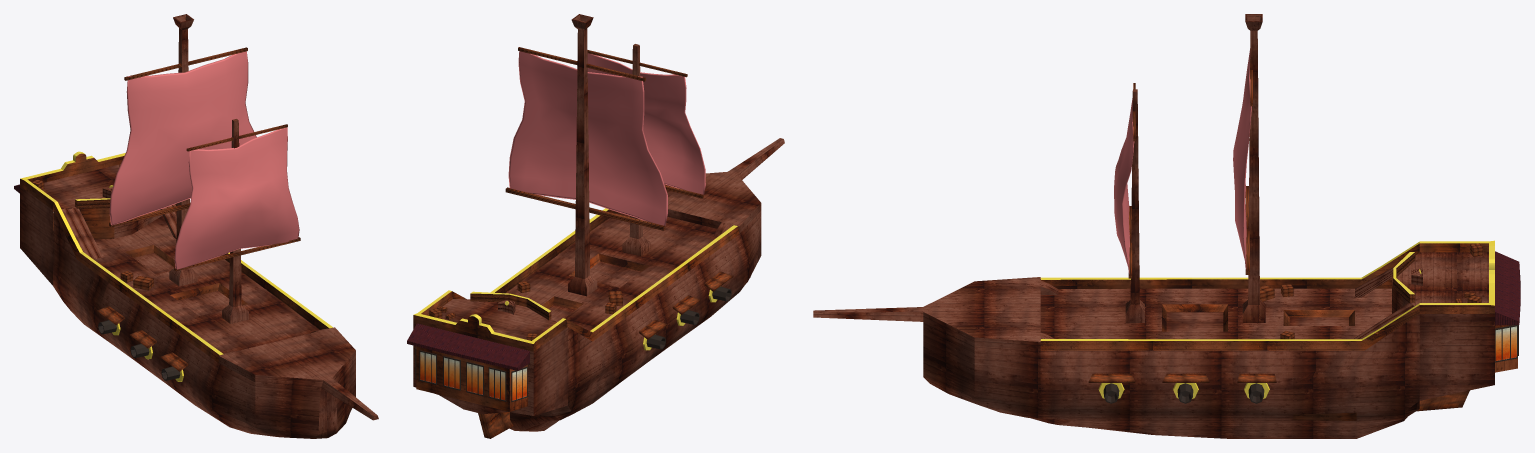
The model's file is EShip100HP.fbx.
The picture shows the model from 3 angles, left to right: view 1: azimuth 30°, elevation 25°; view 2: azimuth 150°, elevation 25°; view 3: azimuth 270°, elevation 25°; orthographic projection. The views are drawn at different scales.
Parts seen in each view (by area): view 1: pCube1, pCube17, pCube21, pCube2, pCube19, pCube20, pCube16, pCube22, pCube4; view 2: pCube1, pCube17, pCube21, pCube16, pCube4, pCube6, pCube19, pCube43, pCube31, pCube39, pCube47, pCube51 (+1 smaller); view 3: pCube1, pCube17, pCube21.
Boxes of the visible parts, x1=… form: pCube1: x1=14, y1=14, x2=378, y2=438; pCube17: x1=109, y1=51, x2=256, y2=225; pCube21: x1=174, y1=127, x2=299, y2=269; pCube2: x1=61, y1=208, x2=103, y2=259; pCube19: x1=124, y1=47, x2=247, y2=80; pCube20: x1=174, y1=237, x2=300, y2=271; pCube16: x1=109, y1=203, x2=190, y2=226; pCube22: x1=186, y1=124, x2=287, y2=151; pCube4: x1=75, y1=198, x2=110, y2=208; pCube1: x1=407, y1=14, x2=784, y2=431; pCube17: x1=508, y1=51, x2=667, y2=225; pCube21: x1=587, y1=53, x2=705, y2=194; pCube16: x1=505, y1=187, x2=665, y2=230; pCube4: x1=470, y1=291, x2=551, y2=319; pCube6: x1=478, y1=412, x2=513, y2=438; pCube19: x1=518, y1=47, x2=645, y2=81; pCube43: x1=467, y1=363, x2=482, y2=394; pCube31: x1=420, y1=352, x2=435, y2=383; pCube39: x1=444, y1=357, x2=459, y2=389; pCube47: x1=489, y1=368, x2=505, y2=400; pCube51: x1=512, y1=368, x2=526, y2=400; pCube1: x1=813, y1=14, x2=1520, y2=438; pCube17: x1=1233, y1=48, x2=1251, y2=269; pCube21: x1=1114, y1=98, x2=1134, y2=274.
Bounding box in the file's own units: 5.52 × 12.05 × 18.43.
